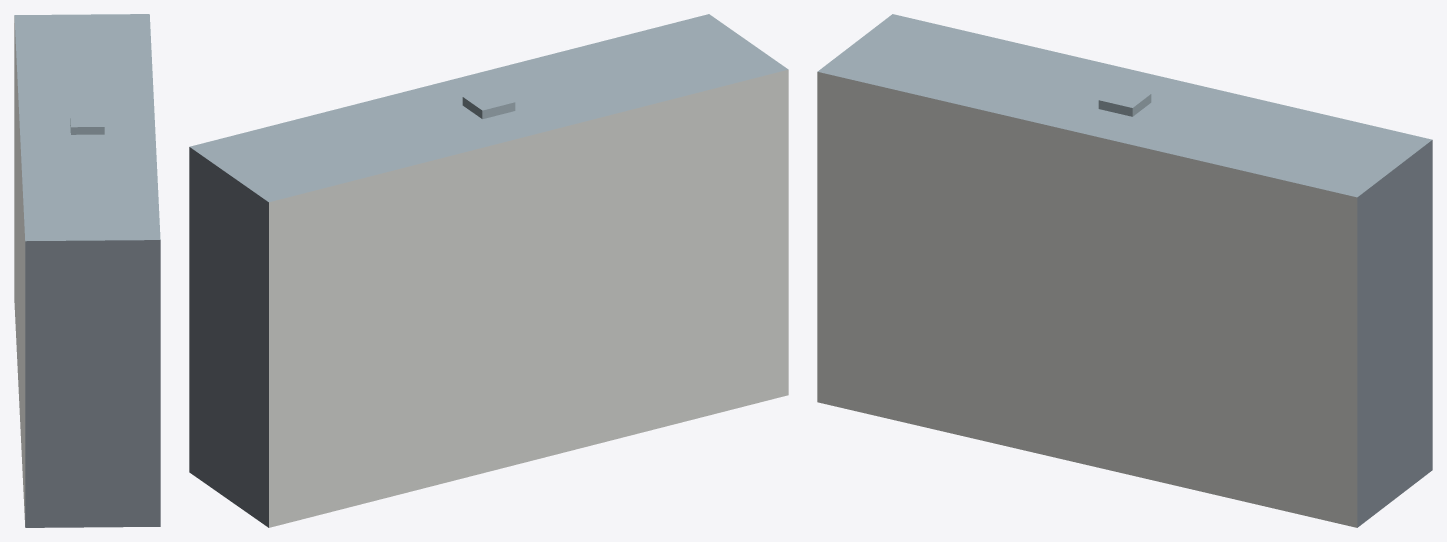
File: doitt-498980__lod_1.glb
The picture shows the model from 3 angles, left to right: view 1: azimuth 30°, elevation 25°; view 2: azimuth 150°, elevation 25°; view 3: azimuth 270°, elevation 25°; orthographic projection. The views are drawn at different scales.
Bounding box in the file's own units: 20.95 × 18.08 × 29.7.
